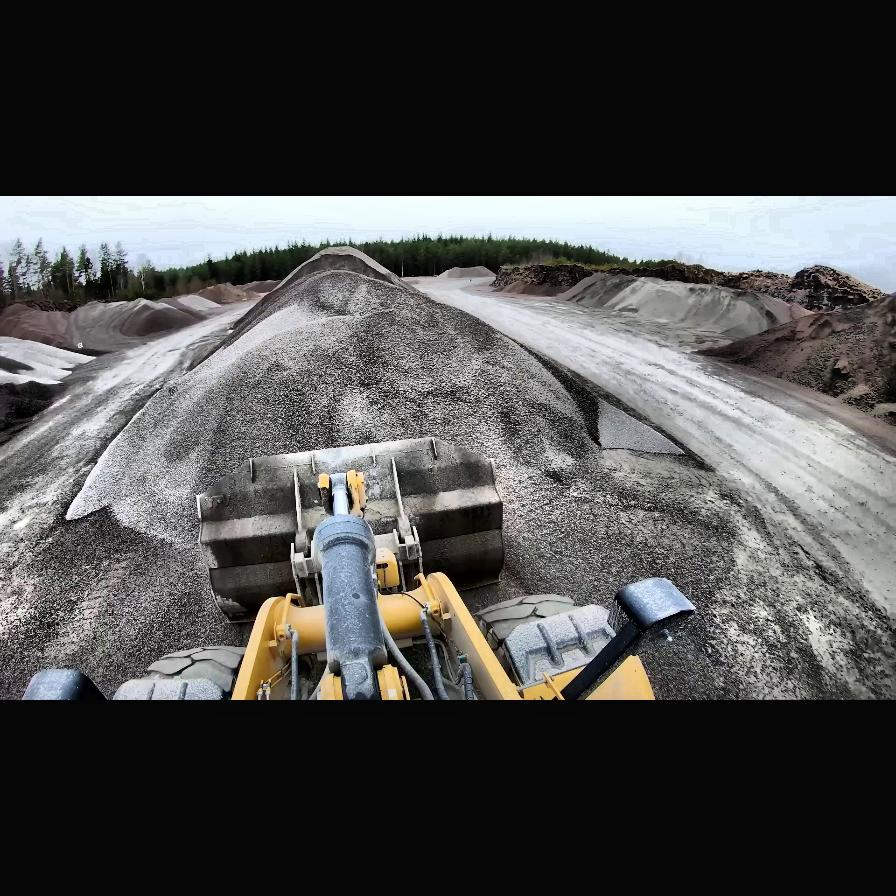anchor: (317, 472, 365, 518)
pile of gravel: (54, 256, 688, 558)
